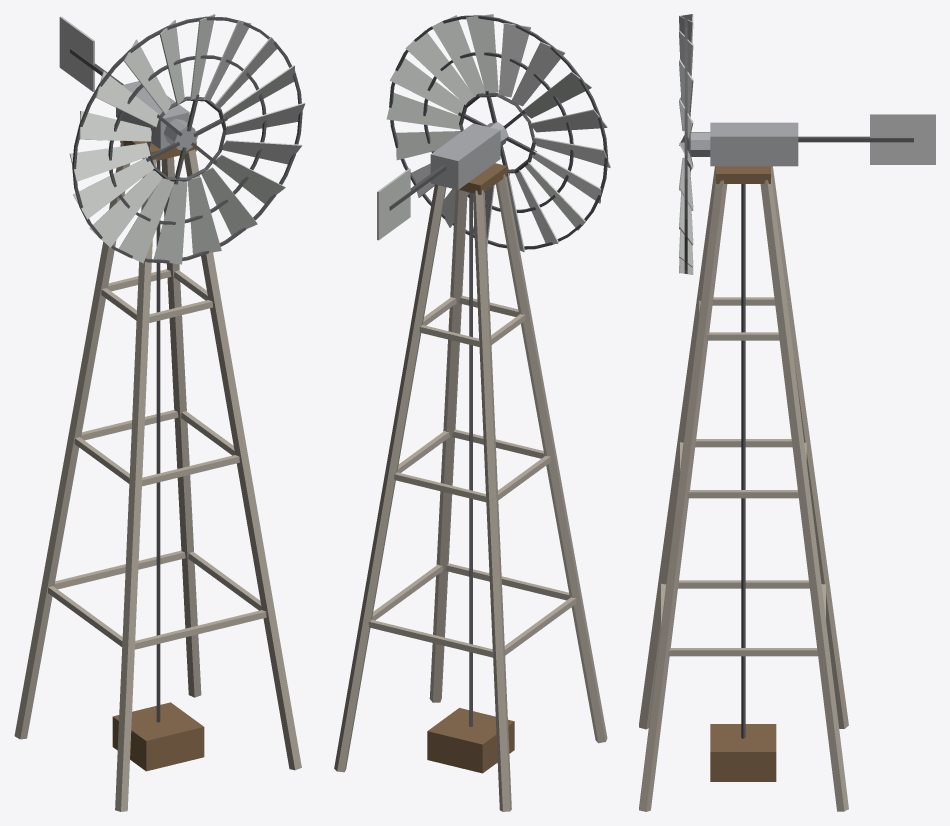
Rendered from SM_Windmill.glb.
3 views of the same model, side by side, from view 1: azimuth 30°, elevation 25°; view 2: azimuth 150°, elevation 25°; view 3: azimuth 270°, elevation 25° (orthographic). The views are drawn at different scales.
Visible parts, largest first — view 1: SM_Windmill; view 2: SM_Windmill; view 3: SM_Windmill.
Part boxes in pixels (x1,y1,x2,y2): SM_Windmill: (14, 14, 305, 811); SM_Windmill: (334, 14, 610, 811); SM_Windmill: (639, 14, 935, 811).
Size of the model in its own units: 2.37 by 7.44 by 2.7.
